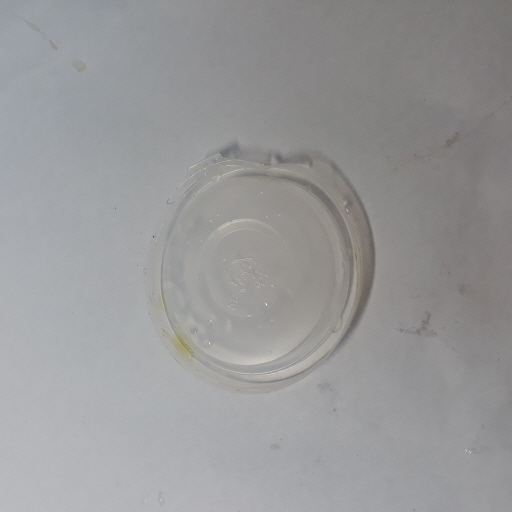Plastic_5: (139, 141, 374, 391)
